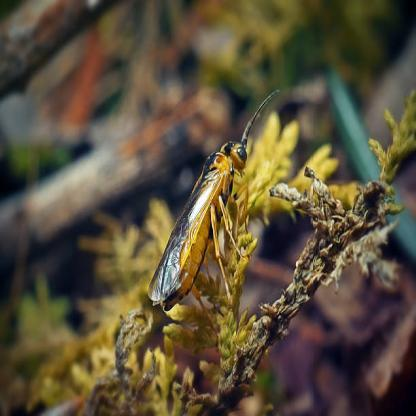sawfly: (149, 85, 283, 319)
